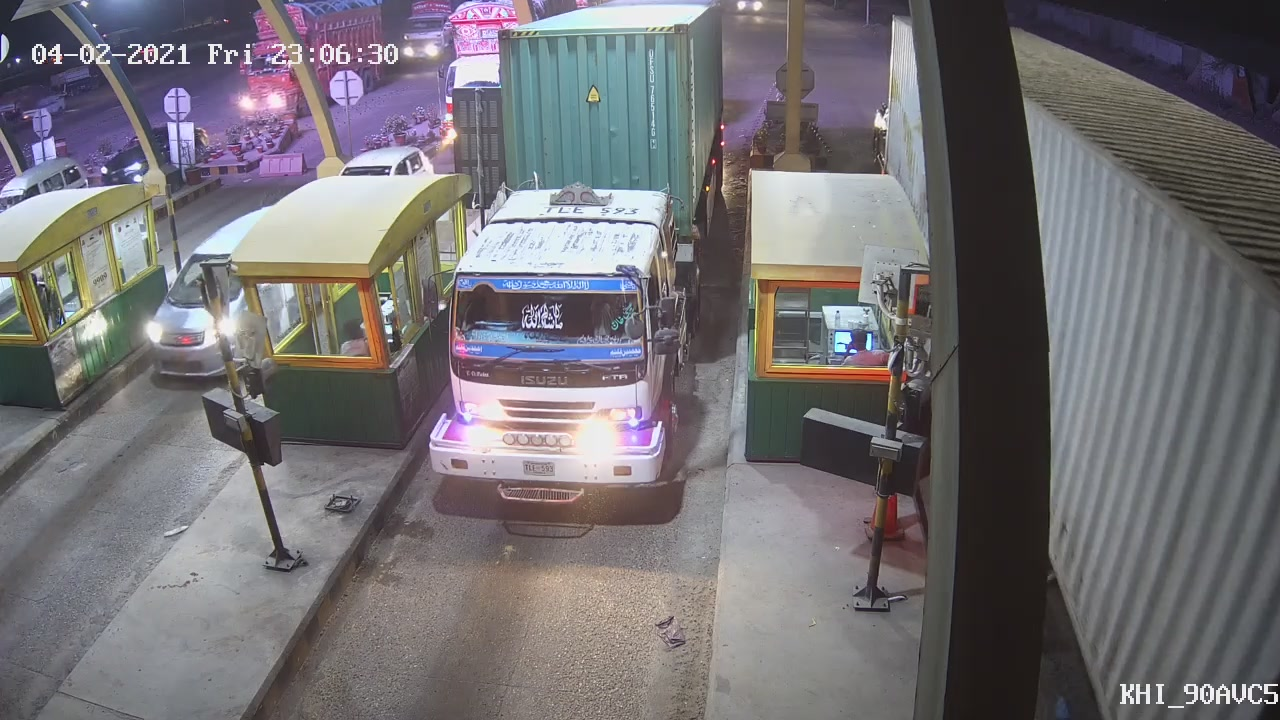F6: (428, 4, 727, 506)
